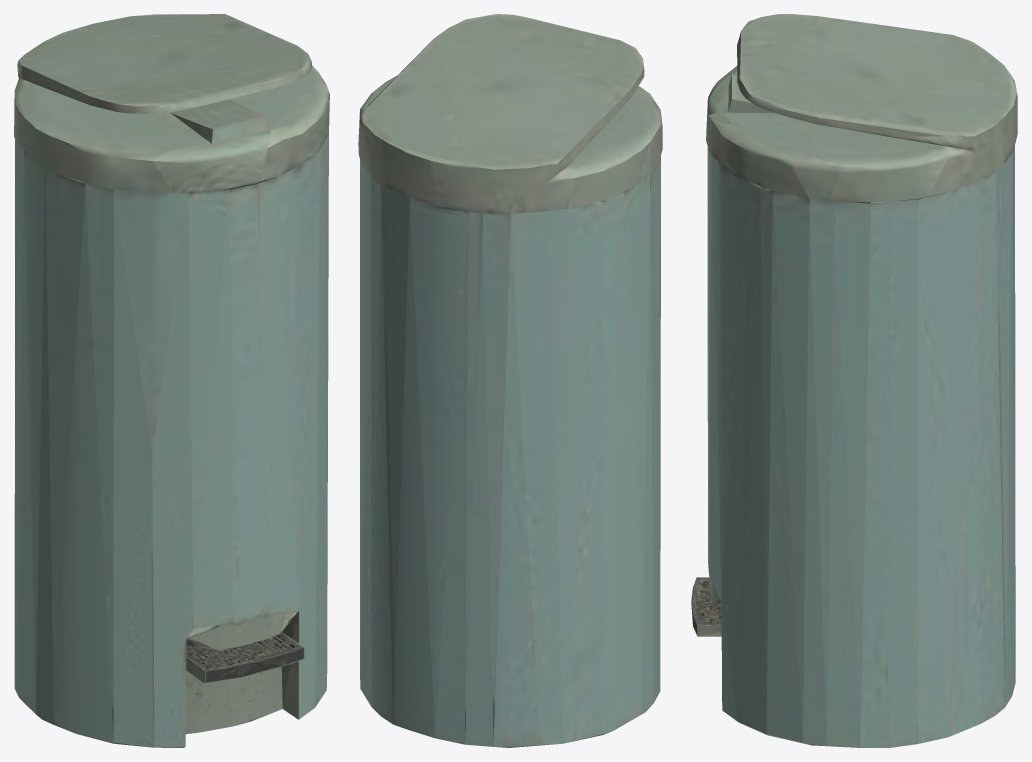
The model's file is cestino_B.glb.
The picture shows the model from 3 angles, left to right: view 1: azimuth 30°, elevation 25°; view 2: azimuth 150°, elevation 25°; view 3: azimuth 270°, elevation 25°; orthographic projection. The views are drawn at different scales.
Parts seen in each view (by area): view 1: Mesh_0; view 2: Mesh_0; view 3: Mesh_0.
Boxes of the visible parts, x1,y1,x2,y2 form: Mesh_0: (14, 14, 329, 747); Mesh_0: (358, 14, 662, 747); Mesh_0: (691, 14, 1017, 747).
Size of the model in its own units: 0.2236 by 0.5 by 0.2354.
1 material, 1 textured.
